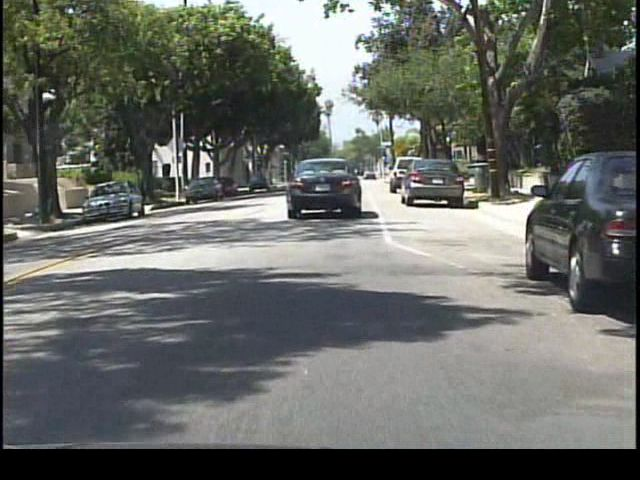car: (519, 145, 640, 309), (283, 160, 363, 217), (400, 159, 465, 204), (82, 179, 145, 218), (182, 172, 225, 205)
strada: (1, 205, 628, 464)
